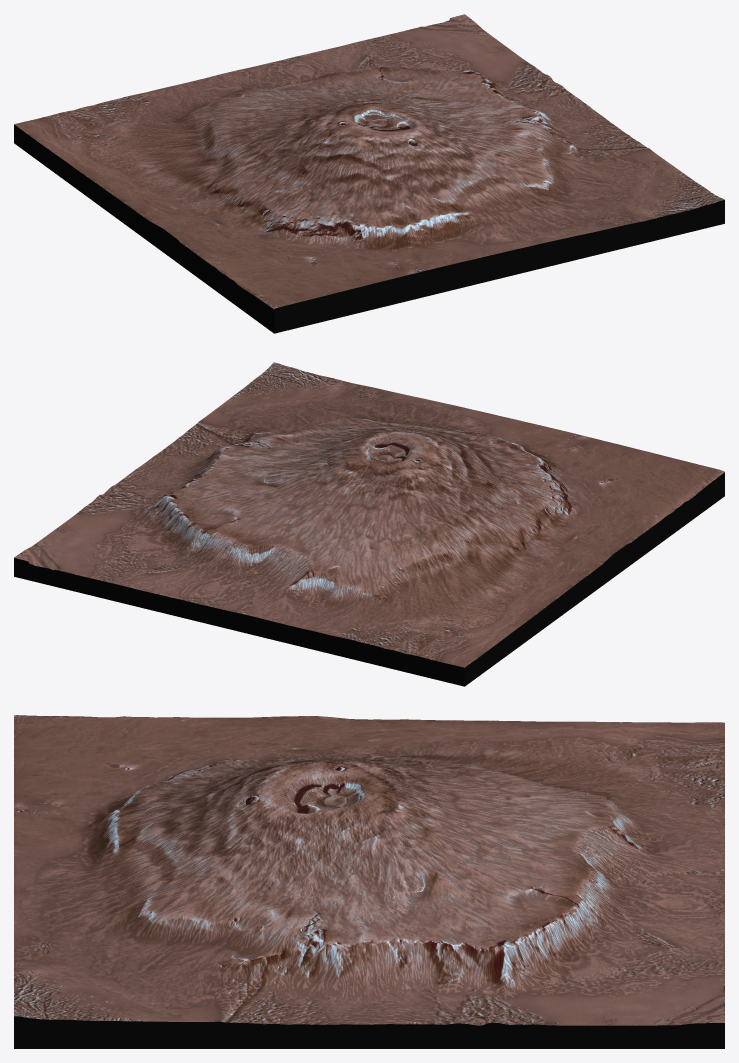
Rendered from mons.dae.
3 renders of one model, top to bottom at view 1: azimuth 30°, elevation 25°; view 2: azimuth 150°, elevation 25°; view 3: azimuth 270°, elevation 25°, orthographic. The views are drawn at different scales.
Visible parts, largest first — view 1: OlympusMons_LP; view 2: OlympusMons_LP; view 3: OlympusMons_LP.
Part boxes in pixels (box(x1,y1,x2,y2)): OlympusMons_LP: box(14, 14, 724, 333); OlympusMons_LP: box(14, 362, 724, 686); OlympusMons_LP: box(14, 715, 724, 1048).
Bounding box in the file's own units: 1.9 × 1.9 × 0.3144.
2 materials, 1 textured.
